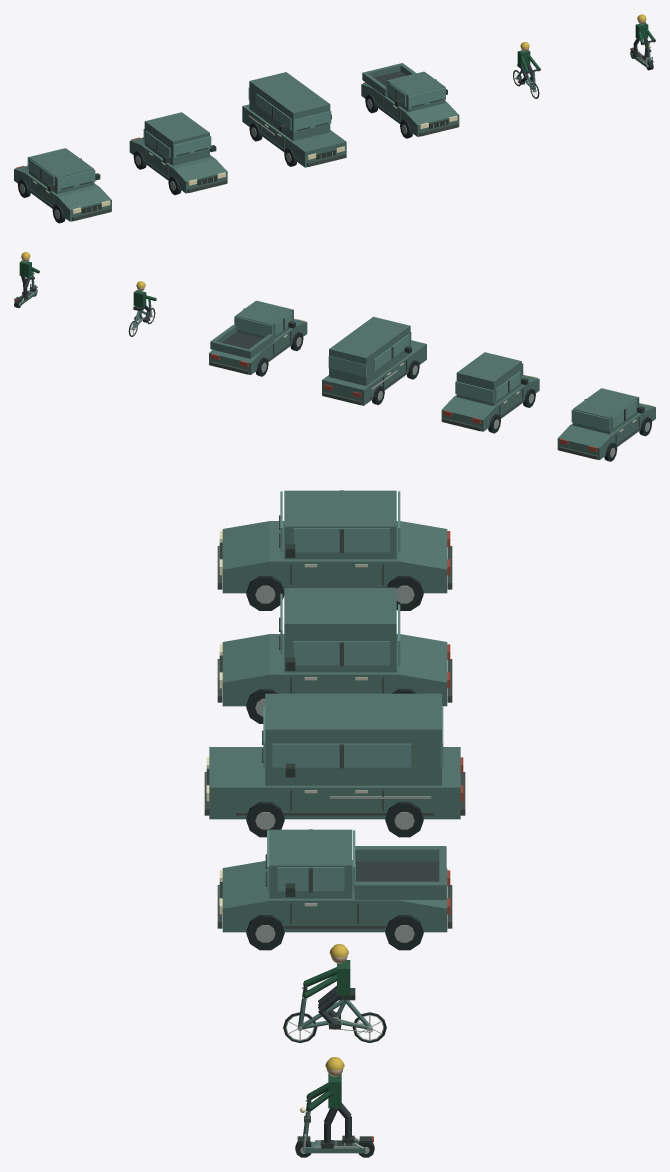
The model's file is campus-props-before-van-profile-2026-11-04.glb.
The picture shows the model from 3 angles, top to bottom: view 1: azimuth 30°, elevation 25°; view 2: azimuth 150°, elevation 25°; view 3: azimuth 270°, elevation 25°; orthographic projection. The views are drawn at different scales.
Parts seen in each view (by area): view 1: Original campus van, Original campus suv, Original campus pickup, Original campus car, Original campus bicycle, Original campus scooter; view 2: Original campus van, Original campus suv, Original campus pickup, Original campus car, Original campus bicycle, Original campus scooter; view 3: Original campus van, Original campus pickup, Original campus car, Original campus suv, Original campus bicycle, Original campus scooter.
Boxes of the visible parts, x1,y1,x2,y2 form: Original campus van: (242, 72, 346, 167); Original campus suv: (129, 112, 227, 195); Original campus pickup: (361, 63, 459, 138); Original campus car: (14, 148, 111, 223); Original campus bicycle: (513, 42, 540, 98); Original campus scooter: (630, 14, 655, 70); Original campus van: (322, 316, 426, 405); Original campus suv: (441, 352, 539, 433); Original campus pickup: (209, 300, 307, 376); Original campus car: (557, 388, 655, 461); Original campus bicycle: (128, 281, 156, 336); Original campus scooter: (14, 252, 39, 307); Original campus van: (204, 693, 465, 837); Original campus pickup: (217, 829, 452, 950); Original campus car: (217, 490, 452, 610); Original campus suv: (217, 587, 452, 723); Original campus bicycle: (283, 944, 386, 1042); Original campus scooter: (295, 1057, 374, 1157).
Size of the model in its own units: 26.4 by 2.17 by 4.87.
